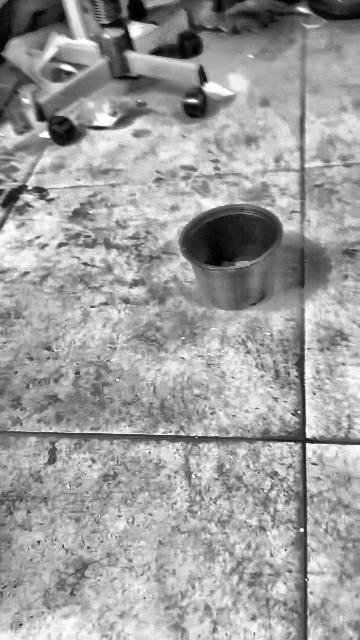pot: (180, 204, 282, 309)
